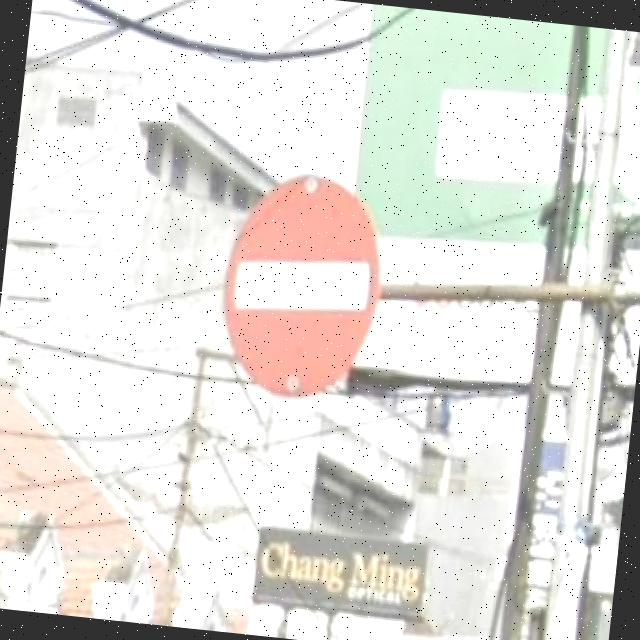Zakaz wjazdu: (216, 172, 390, 412)
